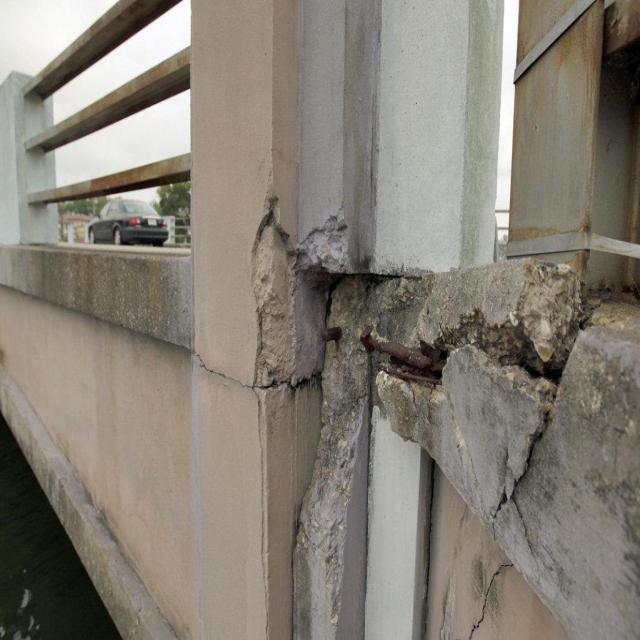Rebar: (373, 304, 592, 406)
concrete spalling: (290, 276, 422, 622), (250, 194, 355, 384)
diagonal crack: (469, 559, 515, 639), (512, 408, 550, 494), (488, 485, 510, 550), (512, 497, 536, 552)
